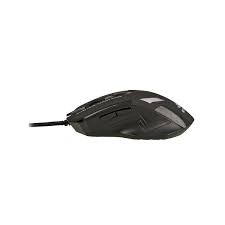mouse: (65, 89, 196, 144)
